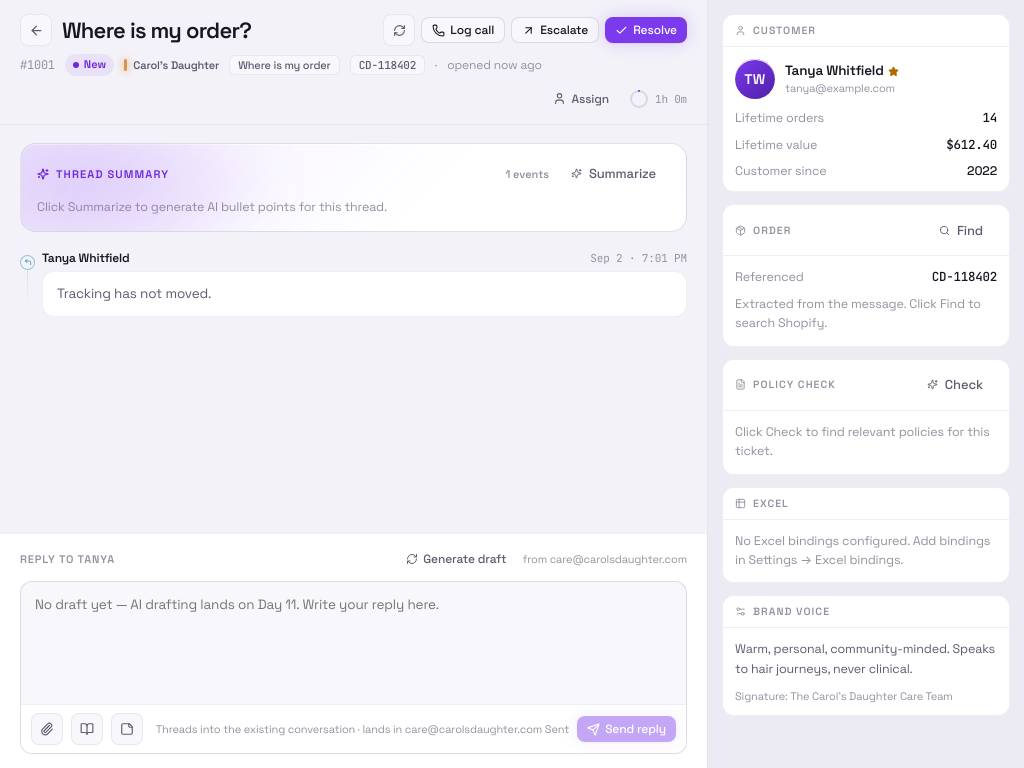
Test case: sending a reply › surfaces a mailbox rejection with the server message
Replace the text in the text box with placeholder "Write your reply here" with "Nope.": (354, 641) left=21, top=582, right=686, bottom=700
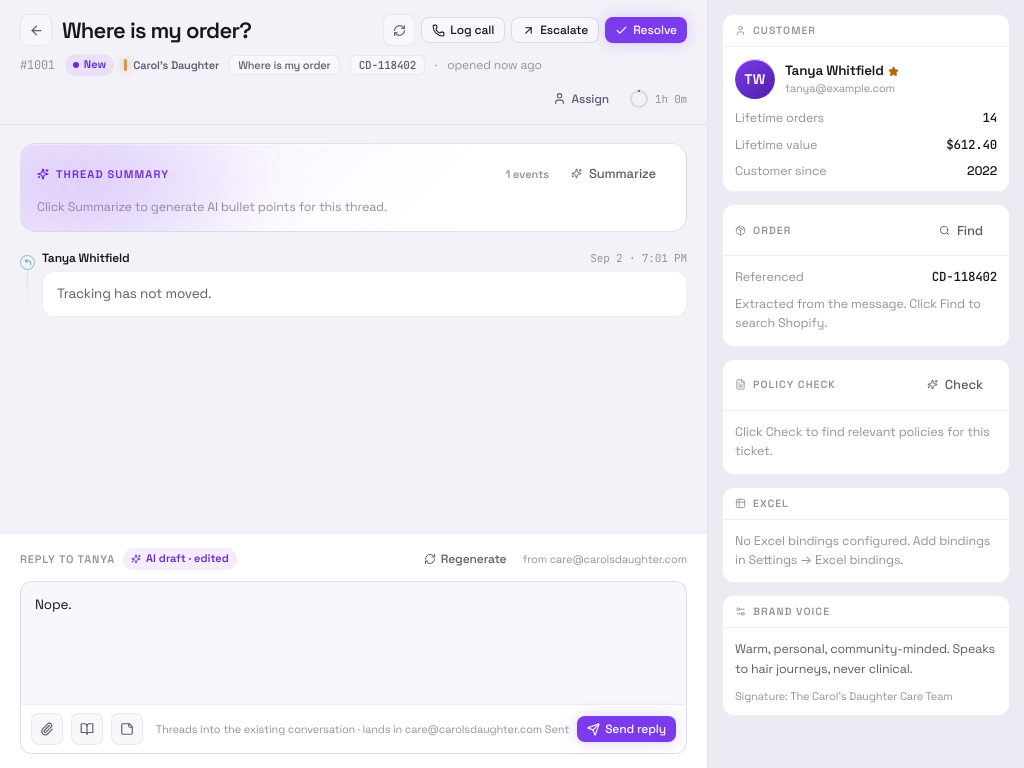
Click the button "Send reply": (627, 729) left=577, top=716, right=676, bottom=742
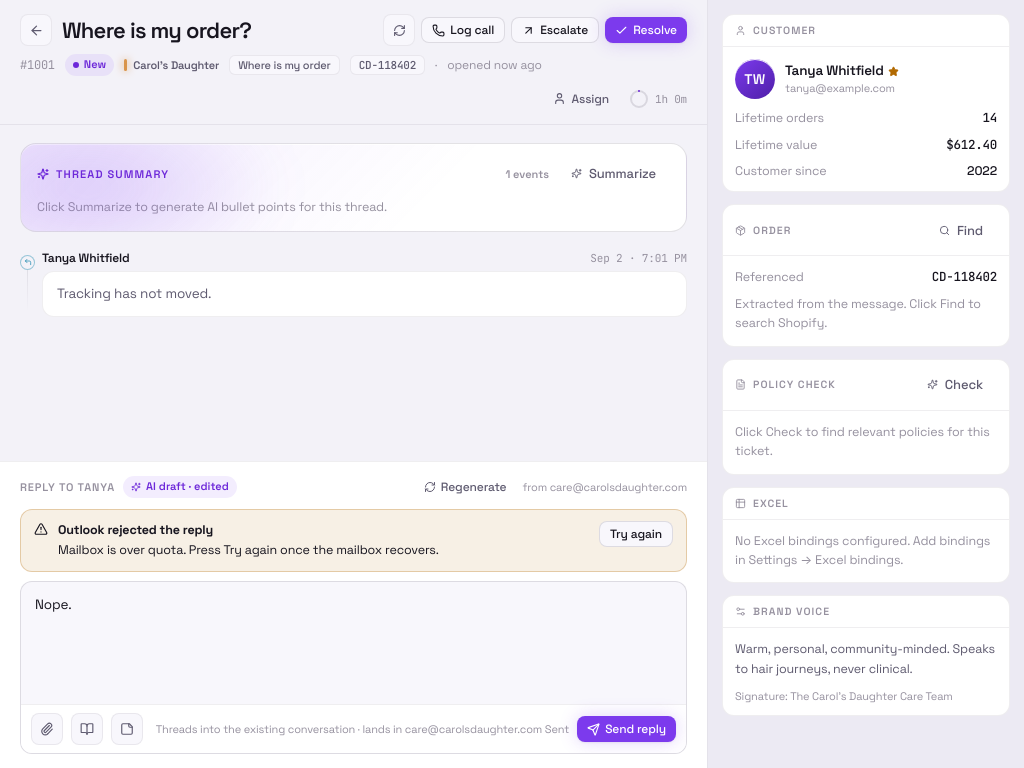
Result: the text "Outlook rejected the reply" is shown at left=58, top=522, right=213, bottom=538
Result: the text "Mailbox is over quota" is shown at left=58, top=542, right=439, bottom=558
